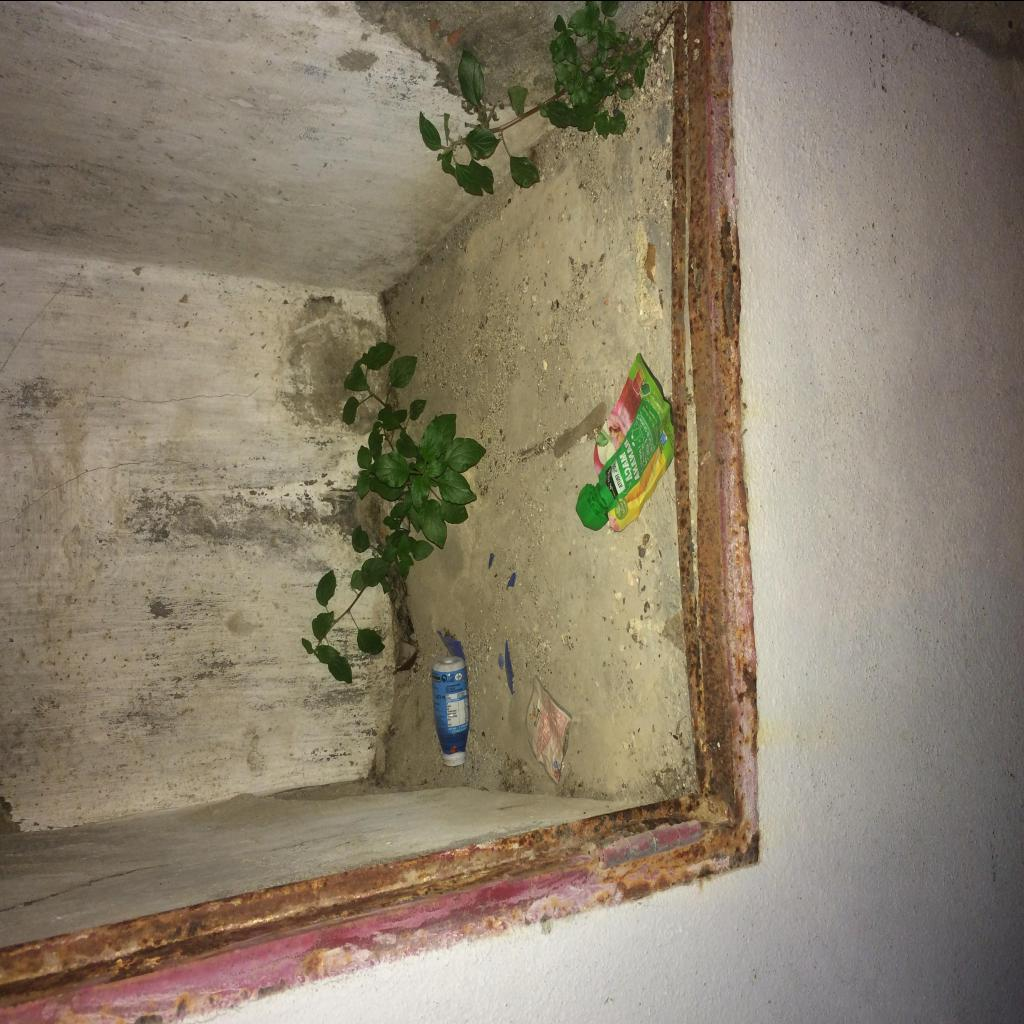Other plastic: (526, 674, 572, 786)
Other plastic wrapper: (436, 630, 466, 664), (505, 639, 514, 694), (506, 572, 516, 586), (489, 552, 495, 568), (498, 652, 504, 668)
